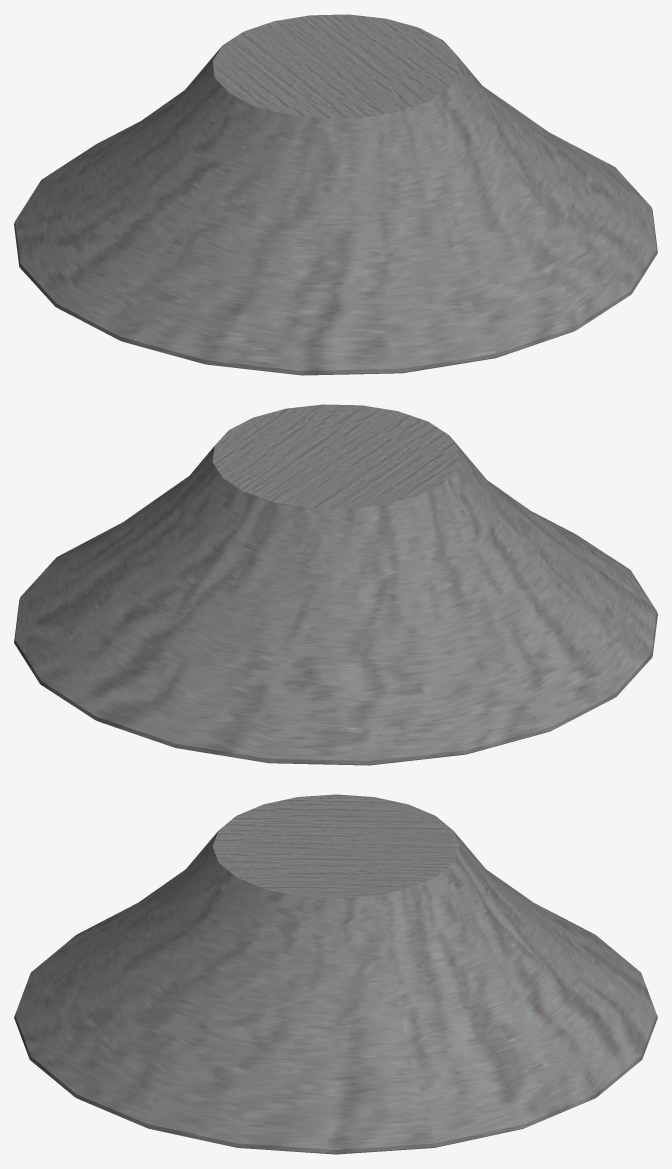
File: ABlock002.obj
The picture shows the model from 3 angles, top to bottom: view 1: azimuth 30°, elevation 25°; view 2: azimuth 150°, elevation 25°; view 3: azimuth 270°, elevation 25°; orthographic projection.
Parts seen in each view (by area): view 1: pCylinder1; view 2: pCylinder1; view 3: pCylinder1.
Part boxes in pixels (left/top/right/bottom): pCylinder1: left=14, top=14, right=657, bottom=375; pCylinder1: left=14, top=404, right=657, bottom=765; pCylinder1: left=14, top=794, right=657, bottom=1154.
Bounding box in the file's own units: 196 × 58.11 × 196.
1 material, 1 textured.
